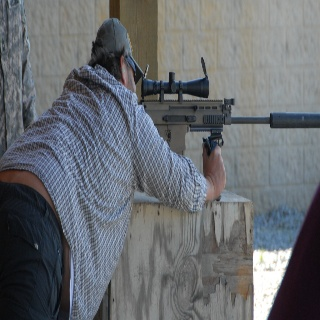rifle: (137, 55, 320, 156)
